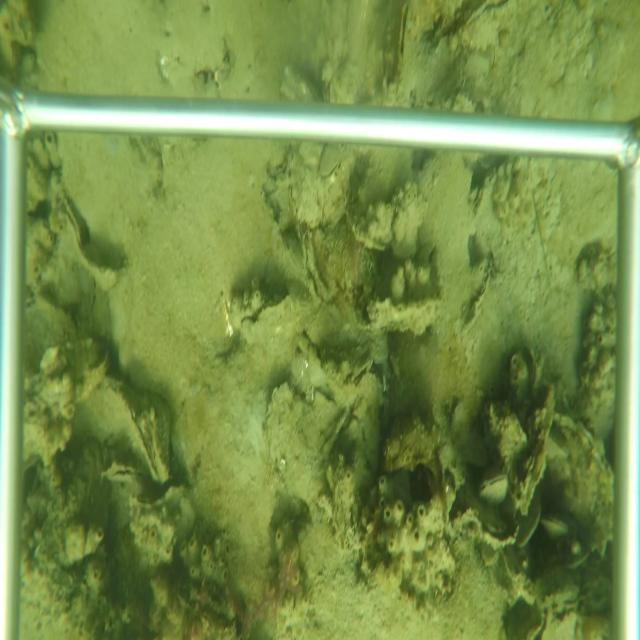Oyster-Closed: (468, 157, 564, 275), (550, 410, 614, 553), (96, 379, 175, 486), (515, 378, 558, 517), (238, 293, 328, 338), (280, 150, 325, 228), (363, 294, 443, 337), (453, 2, 516, 50), (461, 257, 494, 341), (299, 232, 335, 308), (393, 2, 421, 90), (100, 462, 148, 490), (479, 470, 510, 504), (542, 512, 572, 541), (319, 145, 341, 184)
Oyster-Indeterminate: (267, 383, 350, 511)
Oyster-Open: (524, 604, 551, 637)
